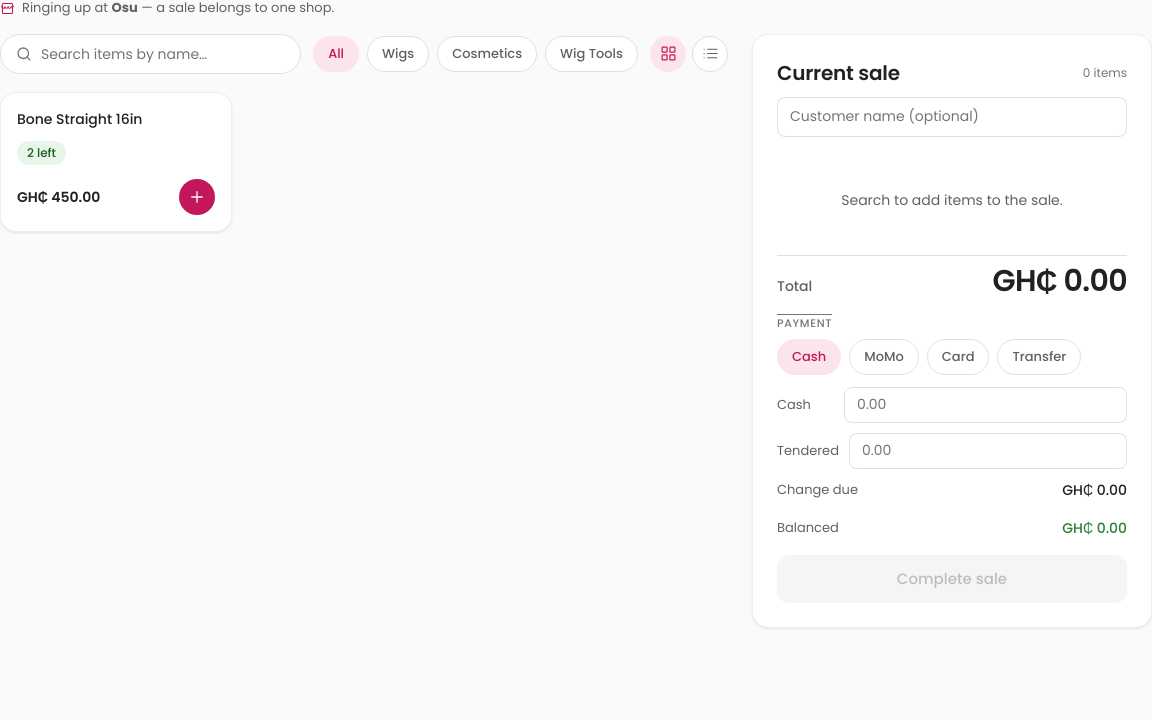
Scenario: SellView — confirming a changed price (#30) › shows old → new and the new total; confirming resends the same Sale at the new total
Click the button named "Add Bone Straight 16in" at (197, 197), box [179,179,215,215]
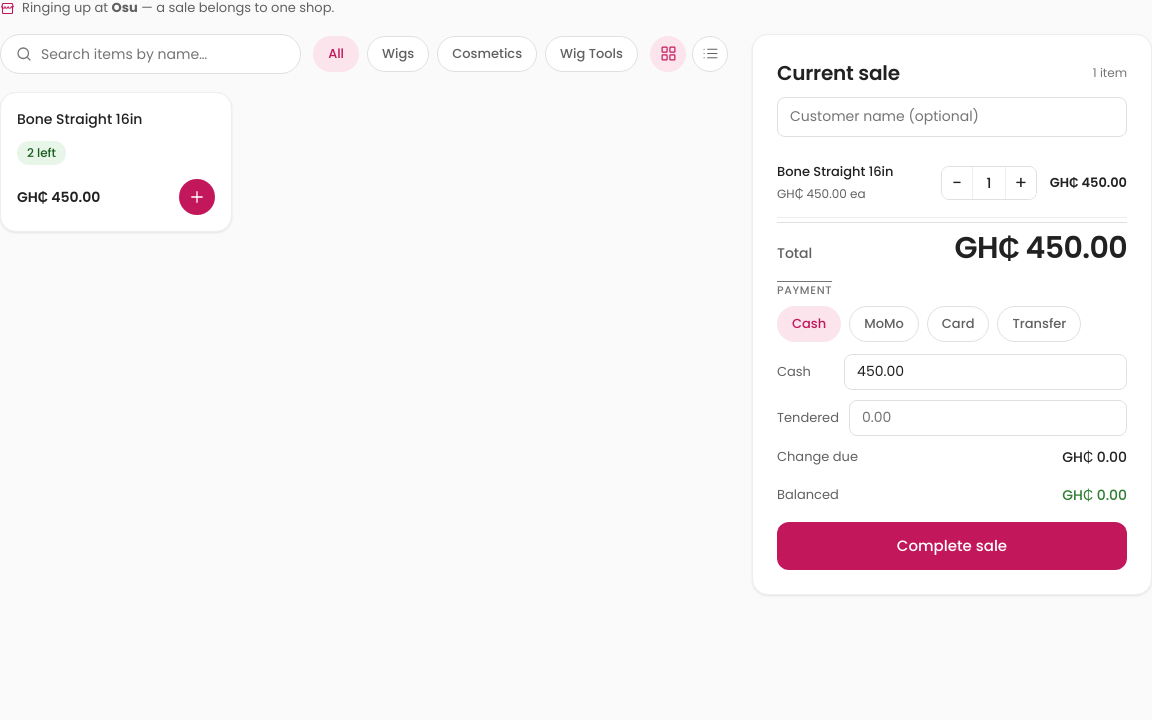
Click the button "Complete sale" at (952, 546), box [777,522,1127,570]
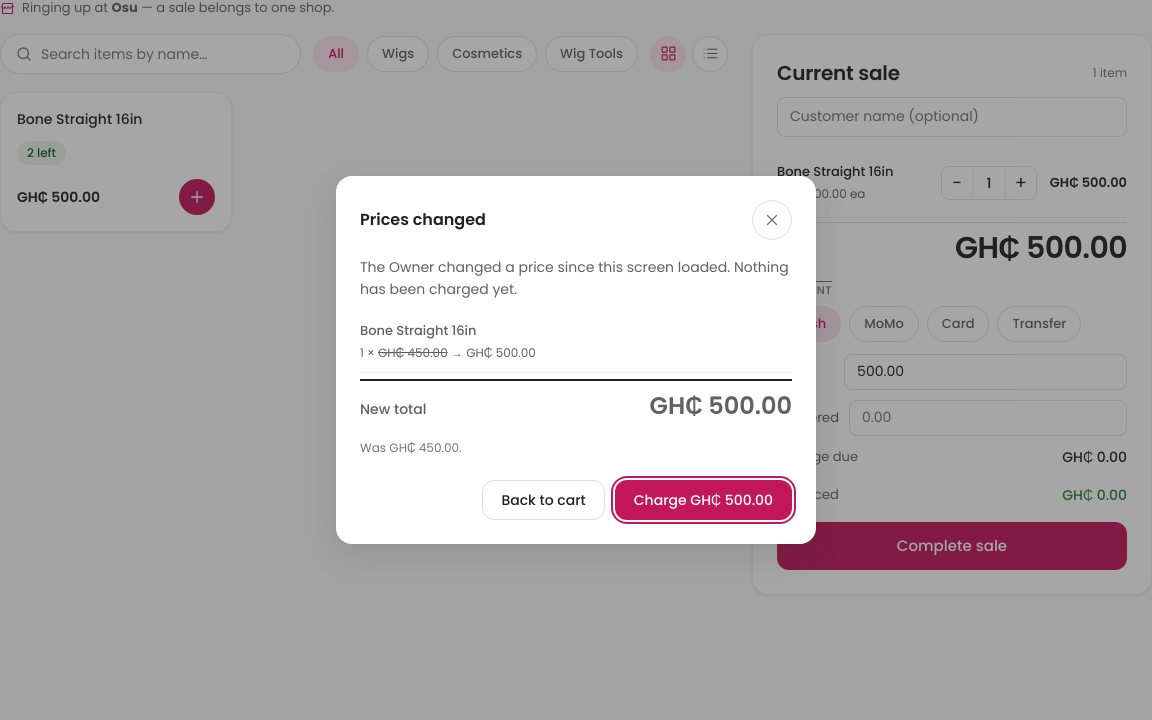
expect the text "Bone Straight 16in" is shown: met, box [360,321,476,340]
Click the button "Charge GH₵ 500.00" at (703, 500), box [615,480,792,520]
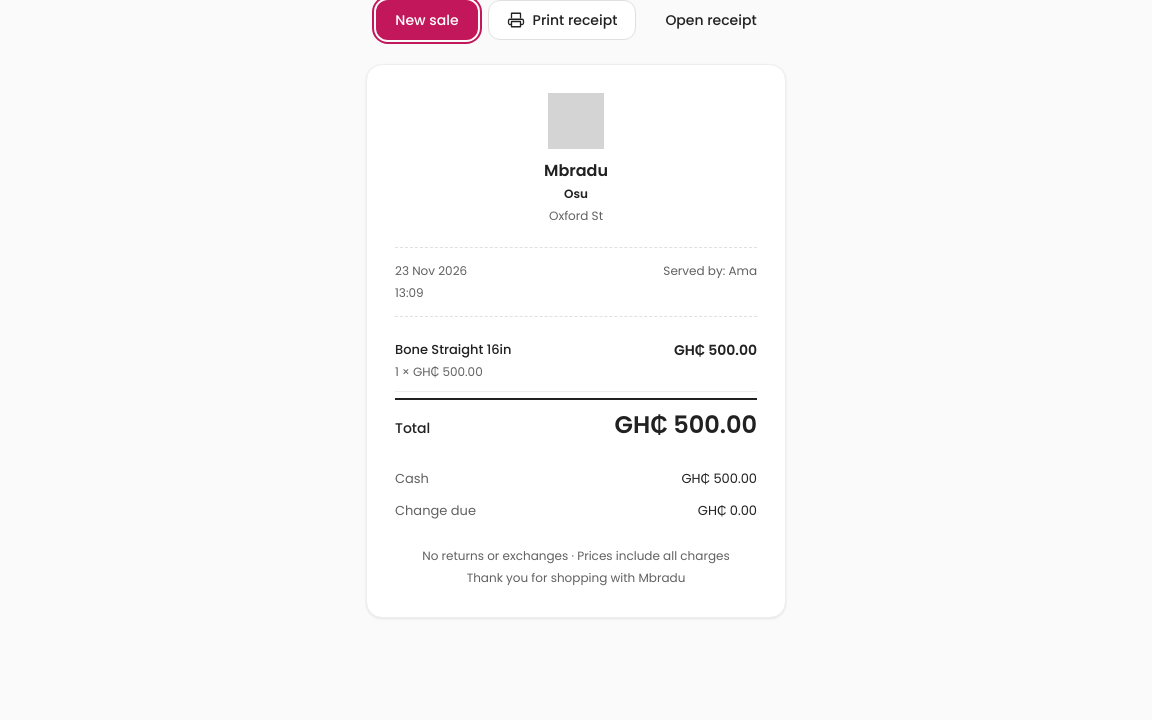
expect the element with class "receipt" is shown: met, box [366,64,786,618]
